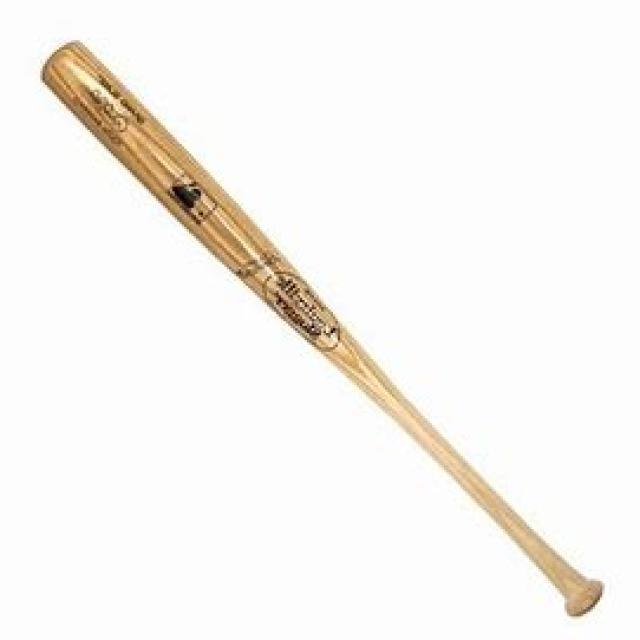bat: (26, 27, 610, 623)
